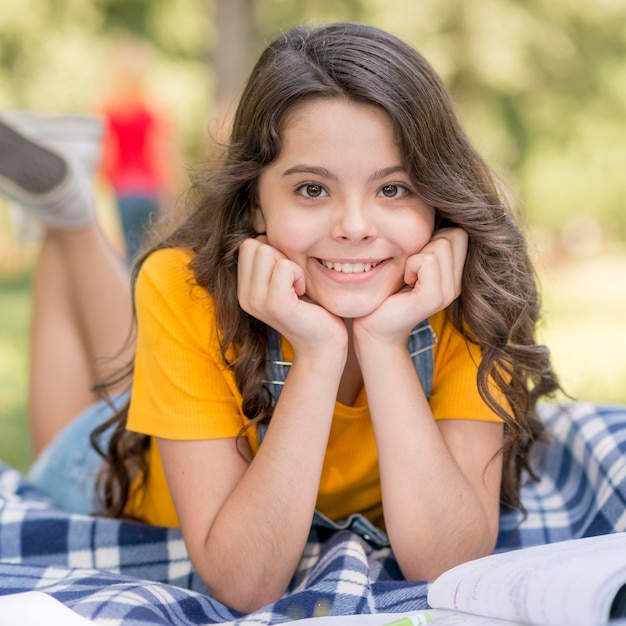teen: (237, 30, 474, 347)
